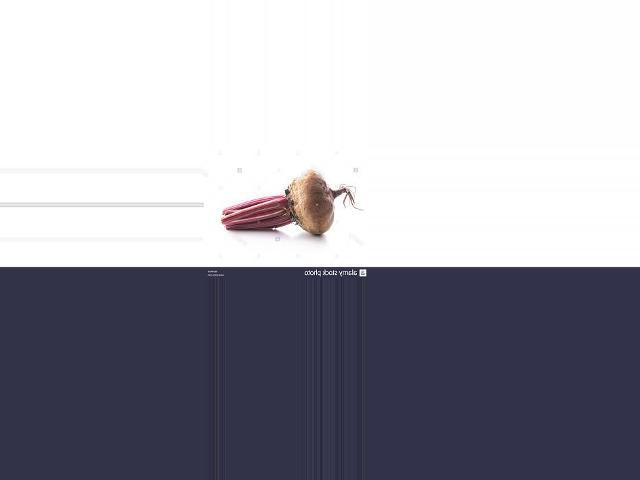beet: (220, 170, 363, 235)
